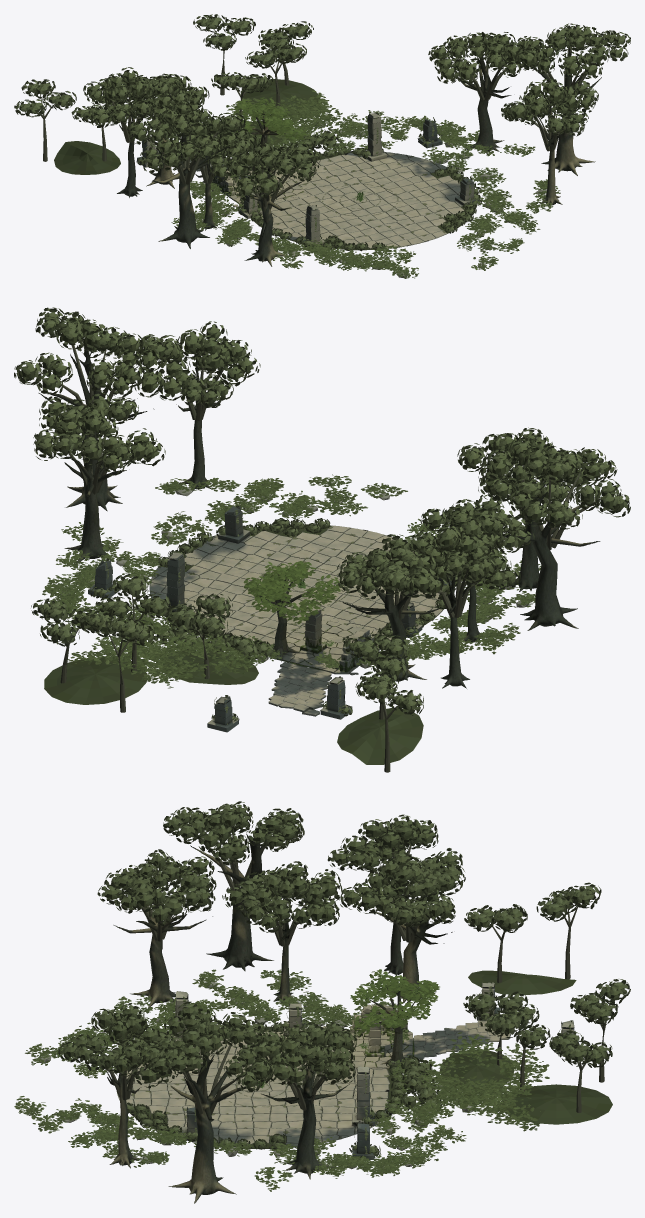
Rendered from hub.glb.
3 renders of one model, top to bottom at view 1: azimuth 30°, elevation 25°; view 2: azimuth 150°, elevation 25°; view 3: azimuth 270°, elevation 25°, orthographic. The views are drawn at different scales.
Visible parts, largest first — view 1: PD12_Hub_Foliage_Crowns_Cell_0_0, PD12_Hub_Foliage_Crowns_Cell_-1_0, PD11_Foliage_hub-art_Cell_0_-1, PD12_Hub_Foliage_Crowns_Cell_-1_-1, HubArt_Paving_Cell_0_-1, HubArt_Paving_Cell_0_0, HubArt_Paving_Cell_-1_0, PD11_Foliage_hub-art_Cell_0_0, PD11_Foliage_hub-art_Cell_-1_0, PD13_Hub_Earth_WoodlandShoulders, PD12_Hub_Foliage_Crowns_Cell_0_-1, HubArt_Trees_Cell_-1_0 (+28 smaller); view 2: PD12_Hub_Foliage_Crowns_Cell_-1_-1, PD12_Hub_Foliage_Crowns_Cell_0_0, PD13_Hub_Earth_WoodlandShoulders, PD11_Foliage_hub-art_Cell_0_-1, PD12_Hub_Foliage_Crowns_Cell_-1_0, PD12_Hub_Foliage_Crowns_Cell_0_-1, HubArt_Paving_Cell_0_0, PD11_Foliage_hub-art_Cell_0_0, HubArt_Paving_Cell_-1_-1, PD11_Foliage_hub-art_Cell_-1_-1, HubArt_Paving_Cell_0_-1, PD13_Hub_Foliage_MiddleLayer_Cell_-1_-1 (+26 smaller); view 3: PD12_Hub_Foliage_Crowns_Cell_-1_-1, PD12_Hub_Foliage_Crowns_Cell_-1_0, PD11_Foliage_hub-art_Cell_0_-1, PD12_Hub_Foliage_Crowns_Cell_0_0, PD13_Hub_Earth_WoodlandShoulders, PD12_Hub_Foliage_Crowns_Cell_0_-1, HubArt_Paving_Cell_0_-1, PD11_Foliage_hub-art_Cell_-1_-1, PD11_Foliage_hub-art_Cell_0_0, HubArt_Paving_Cell_0_0, PD11_Foliage_hub-art_Cell_-1_0, HubArt_Trees_Cell_-1_0 (+25 smaller).
Part boxes in pixels (x1,y1,x2,y2): PD12_Hub_Foliage_Crowns_Cell_0_0: (487, 27, 598, 136); PD12_Hub_Foliage_Crowns_Cell_-1_0: (174, 109, 320, 200); PD11_Foliage_hub-art_Cell_0_-1: (251, 90, 535, 171); PD12_Hub_Foliage_Crowns_Cell_-1_-1: (98, 67, 260, 160); HubArt_Paving_Cell_0_-1: (278, 151, 451, 201); HubArt_Paving_Cell_0_0: (354, 178, 476, 249); HubArt_Paving_Cell_-1_0: (255, 175, 455, 250); PD11_Foliage_hub-art_Cell_0_0: (457, 150, 560, 270); PD11_Foliage_hub-art_Cell_-1_0: (215, 222, 418, 278); PD13_Hub_Earth_WoodlandShoulders: (54, 79, 320, 174); PD12_Hub_Foliage_Crowns_Cell_0_-1: (428, 32, 548, 83); HubArt_Trees_Cell_-1_0: (175, 133, 303, 266); PD12_Hub_Foliage_Crowns_Cell_-1_-1: (337, 479, 544, 599); PD12_Hub_Foliage_Crowns_Cell_0_0: (55, 320, 260, 419); PD13_Hub_Earth_WoodlandShoulders: (44, 650, 423, 764); PD11_Foliage_hub-art_Cell_0_-1: (42, 522, 226, 683); PD12_Hub_Foliage_Crowns_Cell_-1_0: (431, 427, 598, 541); PD12_Hub_Foliage_Crowns_Cell_0_-1: (33, 379, 165, 475); HubArt_Paving_Cell_0_0: (179, 524, 388, 588); PD11_Foliage_hub-art_Cell_0_0: (151, 474, 407, 546); HubArt_Paving_Cell_-1_-1: (233, 590, 431, 716); PD11_Foliage_hub-art_Cell_-1_-1: (159, 615, 520, 685); HubArt_Paving_Cell_0_-1: (149, 557, 307, 640); PD13_Hub_Foliage_MiddleLayer_Cell_-1_-1: (159, 593, 409, 679); PD12_Hub_Foliage_Crowns_Cell_-1_-1: (259, 815, 465, 932); PD12_Hub_Foliage_Crowns_Cell_-1_0: (97, 803, 263, 929); PD11_Foliage_hub-art_Cell_0_-1: (260, 1063, 534, 1191); PD12_Hub_Foliage_Crowns_Cell_0_0: (58, 1001, 262, 1088); PD13_Hub_Earth_WoodlandShoulders: (439, 970, 612, 1124); PD12_Hub_Foliage_Crowns_Cell_0_-1: (260, 1021, 357, 1087); HubArt_Paving_Cell_0_-1: (252, 1069, 405, 1148); PD11_Foliage_hub-art_Cell_-1_-1: (260, 969, 534, 1087); PD11_Foliage_hub-art_Cell_0_0: (14, 1096, 261, 1182); HubArt_Paving_Cell_0_0: (116, 1077, 269, 1148); PD11_Foliage_hub-art_Cell_-1_0: (25, 969, 261, 1078); HubArt_Trees_Cell_-1_0: (113, 829, 262, 1008).
Size of the model in its own units: 59.34 by 17.76 by 54.4.
6 materials, 5 textured.
